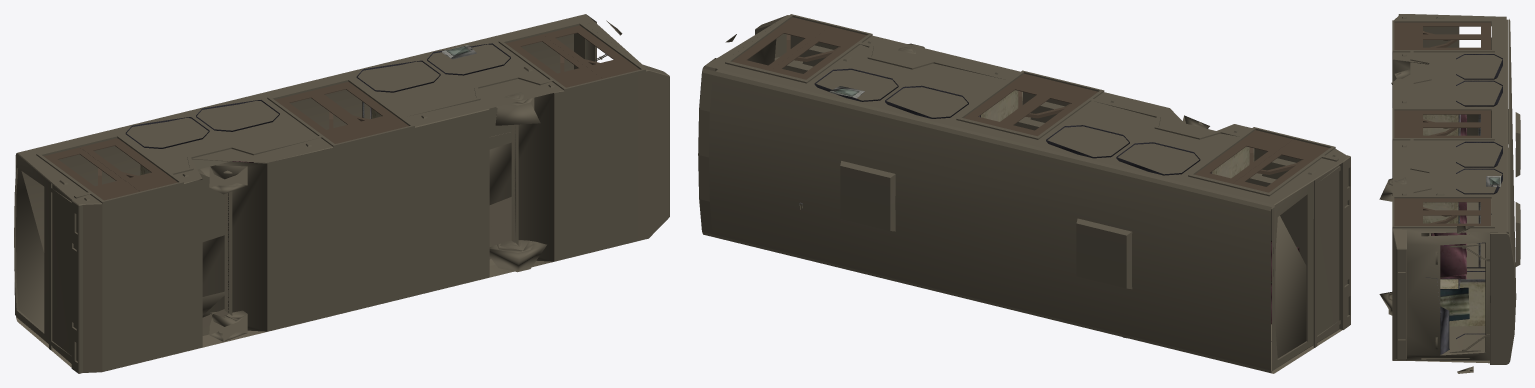
The model's file is wreck-bus.lod0.glb.
The picture shows the model from 3 angles, left to right: view 1: azimuth 30°, elevation 25°; view 2: azimuth 150°, elevation 25°; view 3: azimuth 270°, elevation 25°; orthographic projection. The views are drawn at different scales.
Parts seen in each view (by area): view 1: Object_20, Object_40; view 2: Object_20, Object_40; view 3: Object_20, Object_40.
Part boxes in pixels (box(x1,y1,x2,y2)): Object_20: box(14, 14, 669, 373); Object_40: box(125, 43, 510, 175); Object_20: box(698, 14, 1350, 373); Object_40: box(799, 68, 1299, 341); Object_20: box(1379, 14, 1520, 373); Object_40: box(1423, 54, 1502, 354).
Bounding box in the file's own units: 11 × 3.37 × 2.92.
2 materials, 1 textured.
